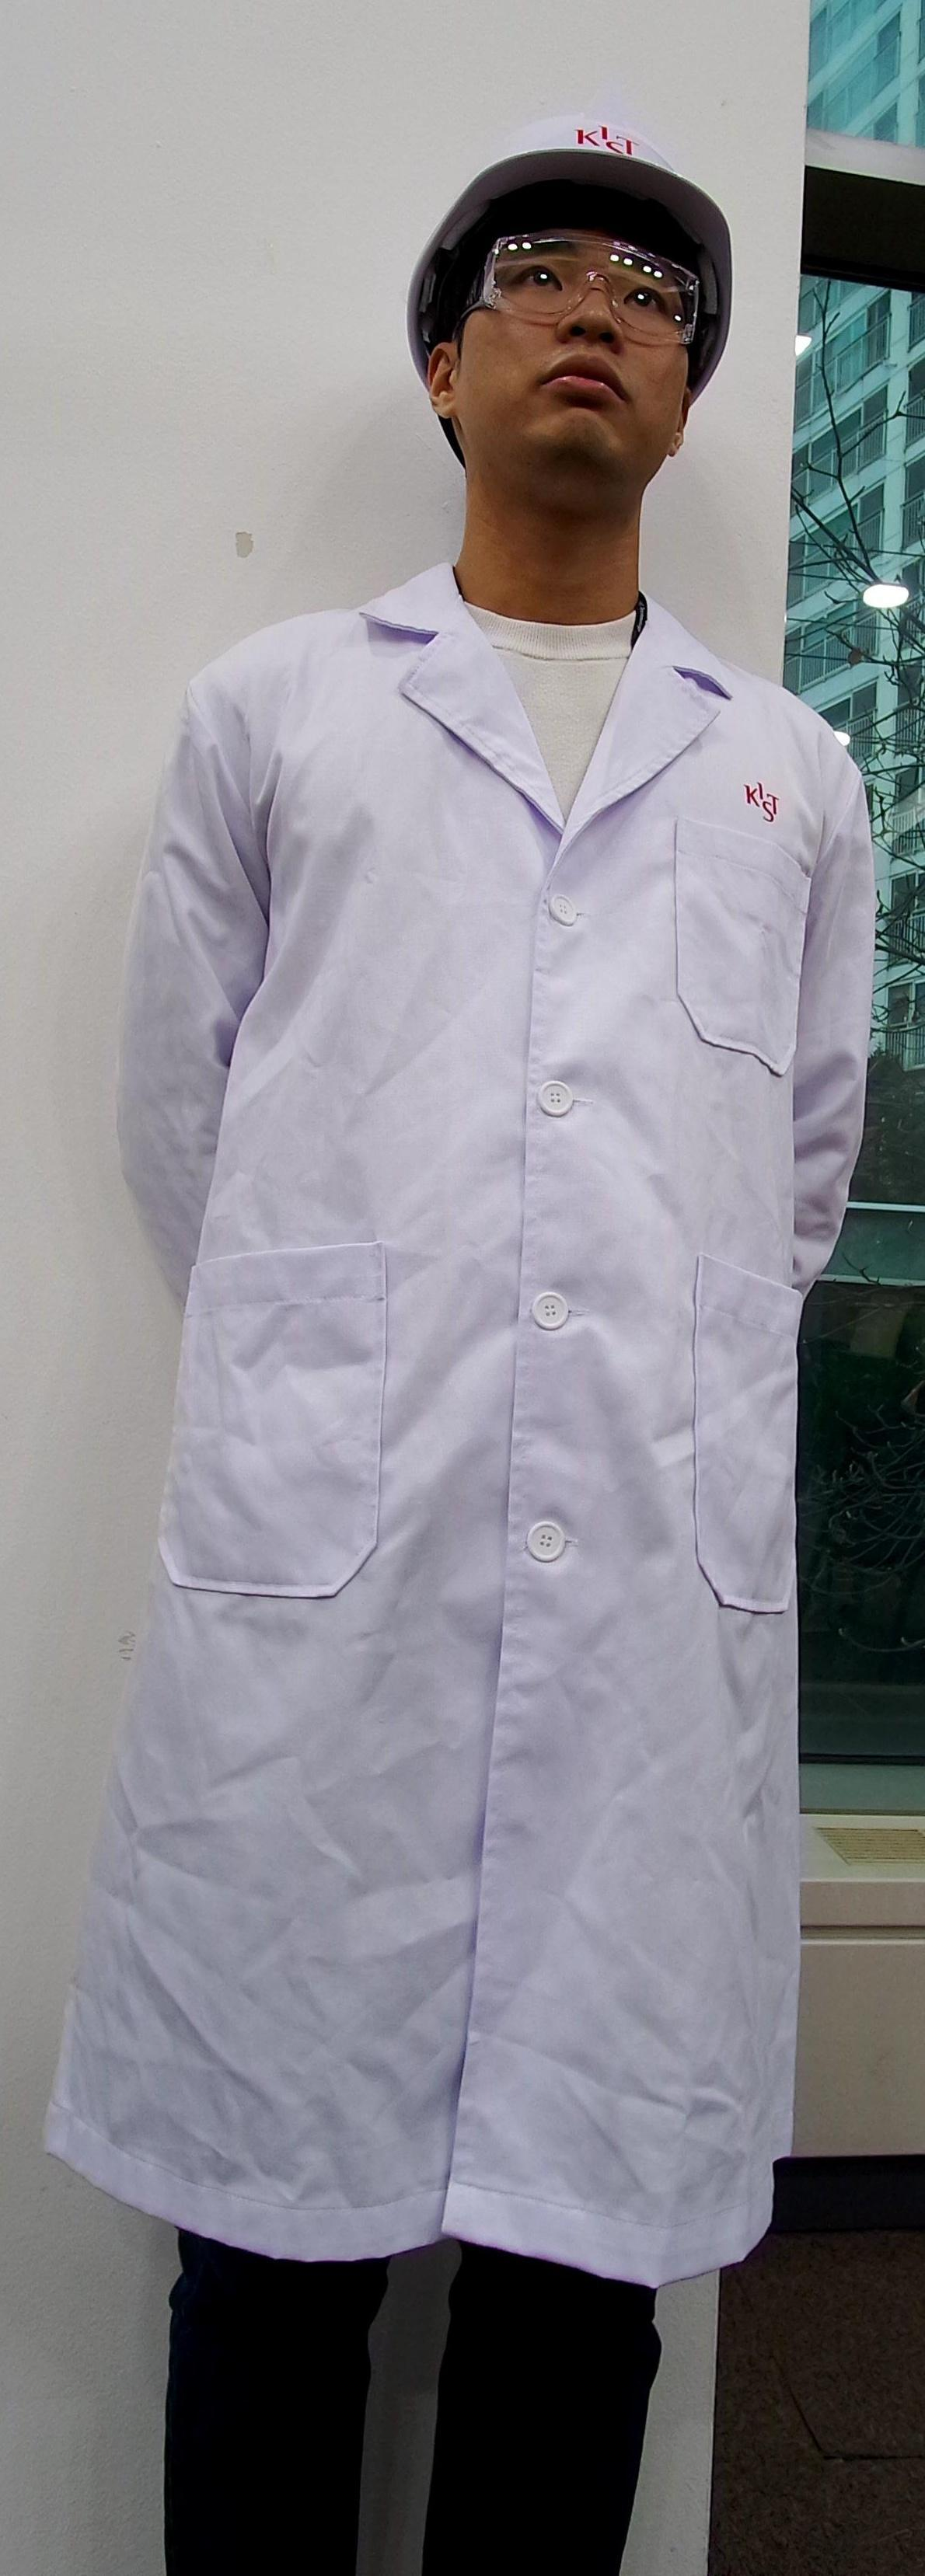lab_coat: (95, 591, 841, 2216)
